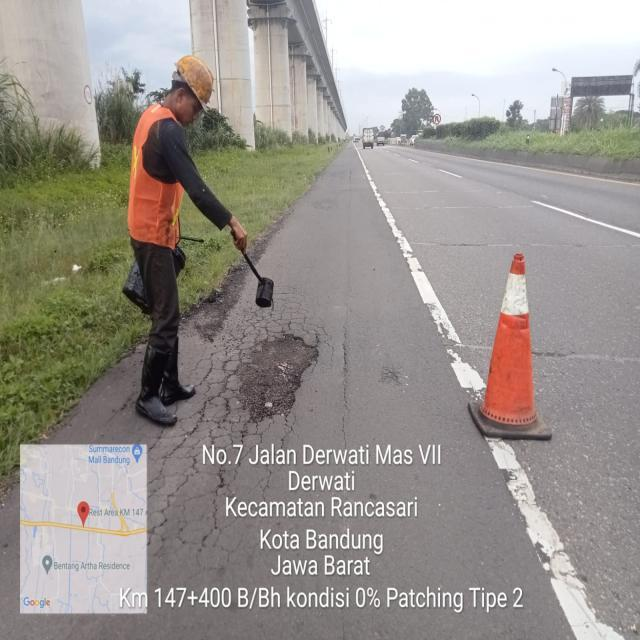Buraco: (231, 332, 321, 425)
